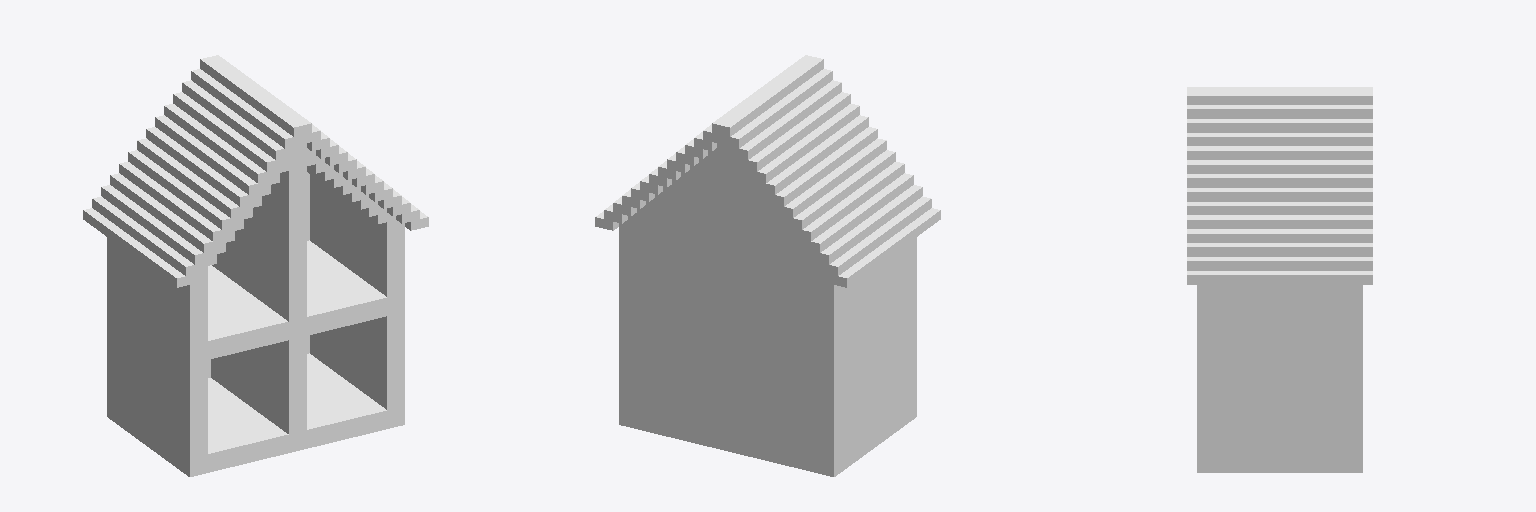
File: colorbox 1.obj
3 renders of one model, left to right at view 1: azimuth 30°, elevation 25°; view 2: azimuth 150°, elevation 25°; view 3: azimuth 270°, elevation 25°, orthographic.
Visible parts, largest first — view 1: object 1; view 2: object 1; view 3: object 1.
Part boxes in pixels (x1,y1,x2,y2): object 1: (83, 55, 428, 476); object 1: (595, 55, 940, 476); object 1: (1187, 87, 1372, 472).
Bounding box in the file's own units: 2.8 × 3.5 × 1.8.